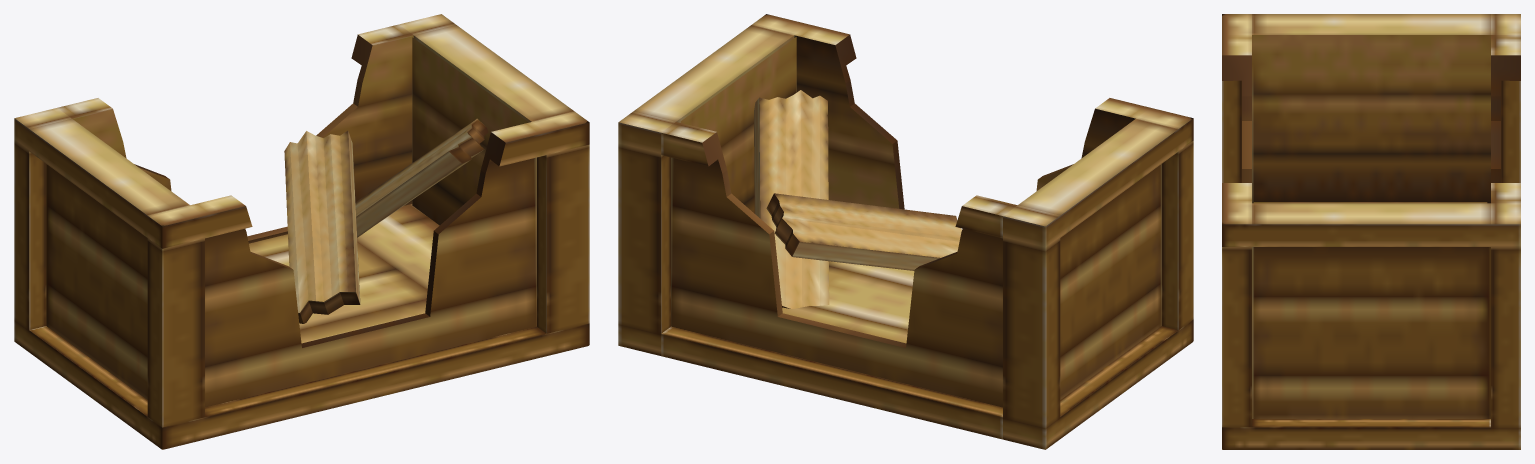
File: Inside_Poly_Crate_02_Damaged.obj
3 views of the same model, side by side, from view 1: azimuth 30°, elevation 25°; view 2: azimuth 150°, elevation 25°; view 3: azimuth 270°, elevation 25° (orthographic).
Parts seen in each view (by area): view 1: Cube, Cube.003_Cube.004, Cube.001_Cube.002; view 2: Cube, Cube.003_Cube.004, Cube.001_Cube.002; view 3: Cube.
Boxes of the visible parts, x1,y1,x2,y2 form: Cube: [14, 14, 589, 449]; Cube.003_Cube.004: [284, 130, 360, 323]; Cube.001_Cube.002: [355, 118, 488, 237]; Cube: [618, 14, 1193, 449]; Cube.003_Cube.004: [766, 193, 961, 270]; Cube.001_Cube.002: [754, 90, 829, 308]; Cube: [1222, 14, 1520, 449].
Bounding box in the file's own units: 1 × 0.5 × 0.6.
1 material, 1 textured.
